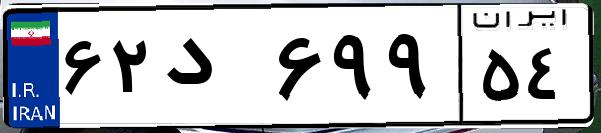2: (110, 28, 158, 98)
4: (525, 38, 570, 115)
5: (475, 38, 525, 113)
6: (270, 28, 330, 110), (57, 26, 110, 100)
9: (385, 28, 445, 110), (330, 28, 385, 110)
د: (158, 20, 270, 120)
